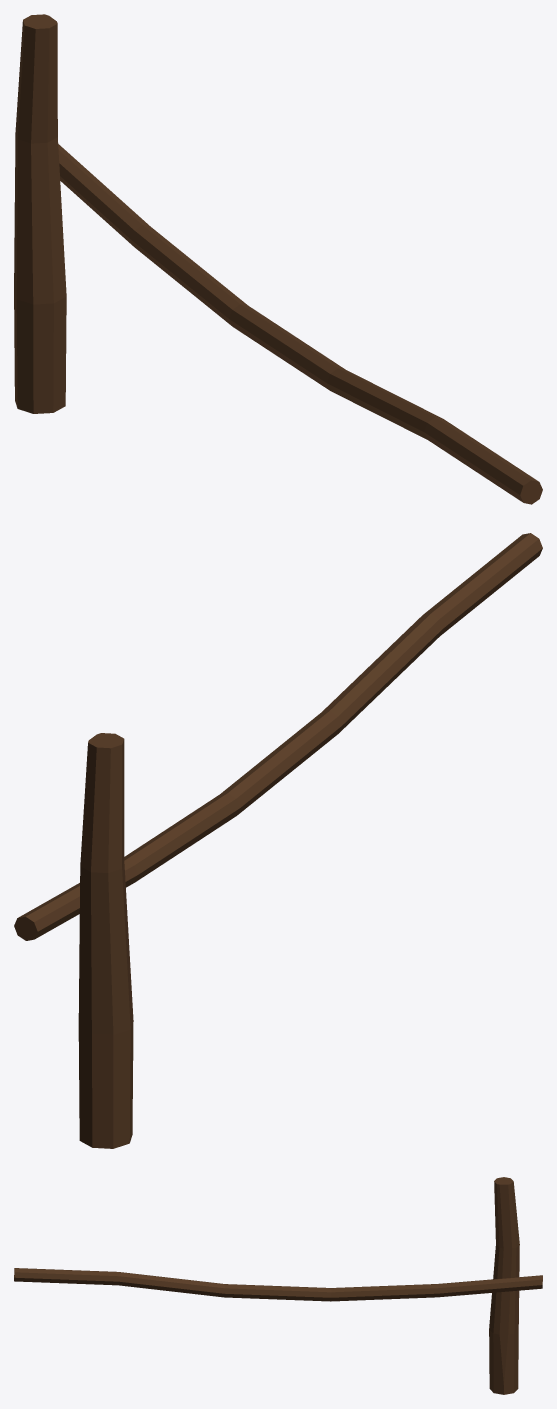
The model's file is Fence_4.fbx.
3 views of the same model, one above another, from view 1: azimuth 30°, elevation 25°; view 2: azimuth 150°, elevation 25°; view 3: azimuth 270°, elevation 25° (orthographic). The views are drawn at different scales.
Visible parts, largest first — view 1: fence_3; view 2: fence_3; view 3: fence_3.
Boxes of the visible parts, x1,y1,x2,y2 form: fence_3: (14, 14, 542, 504); fence_3: (14, 533, 542, 1148); fence_3: (14, 1177, 542, 1394).
Bounding box in the file's own units: 42.9 × 205 × 472.
